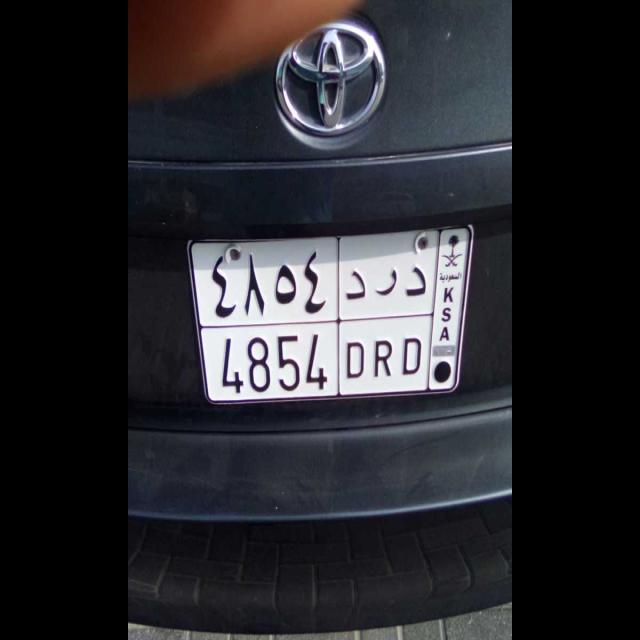license_plate: (201, 320, 434, 402)
